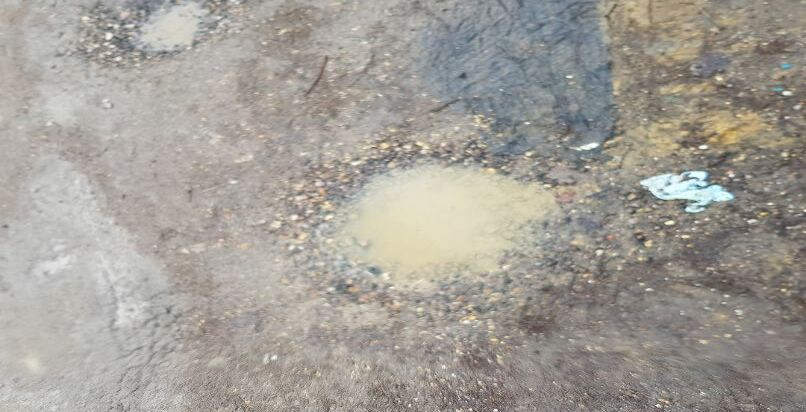pothole: (287, 137, 578, 301), (76, 0, 237, 63)
